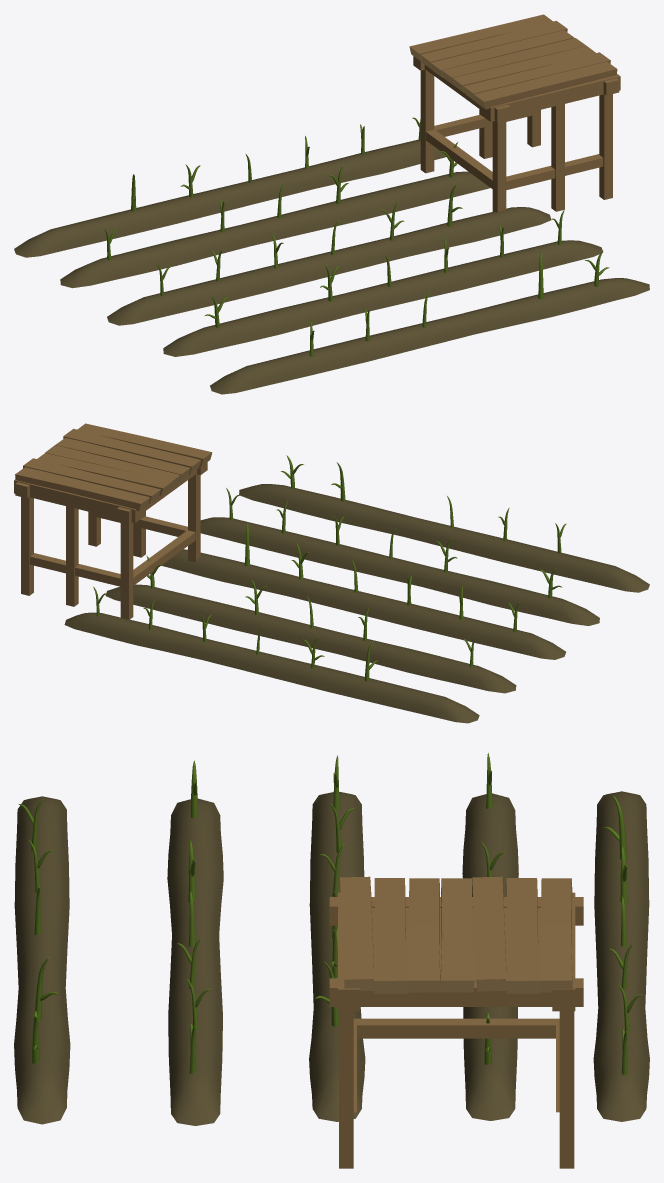
File: farm.glb
3 views of the same model, one above another, from view 1: azimuth 30°, elevation 25°; view 2: azimuth 150°, elevation 25°; view 3: azimuth 270°, elevation 25° (orthographic). The views are drawn at different scales.
Parts seen in each view (by area): view 1: farm; view 2: farm; view 3: farm.
Part boxes in pixels (bbox=[...]): farm: bbox=[14, 14, 649, 394]; farm: bbox=[14, 423, 649, 723]; farm: bbox=[14, 753, 649, 1168].
Bounding box in the file's own units: 2.06 × 0.491 × 1.44.
